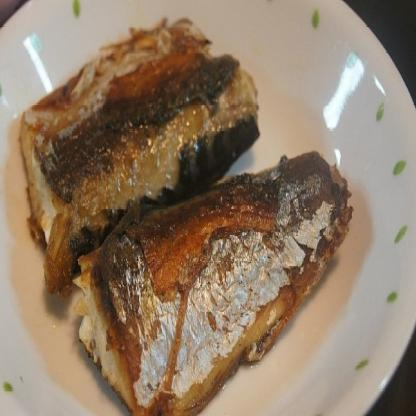Peixe: (0, 16, 365, 404)
